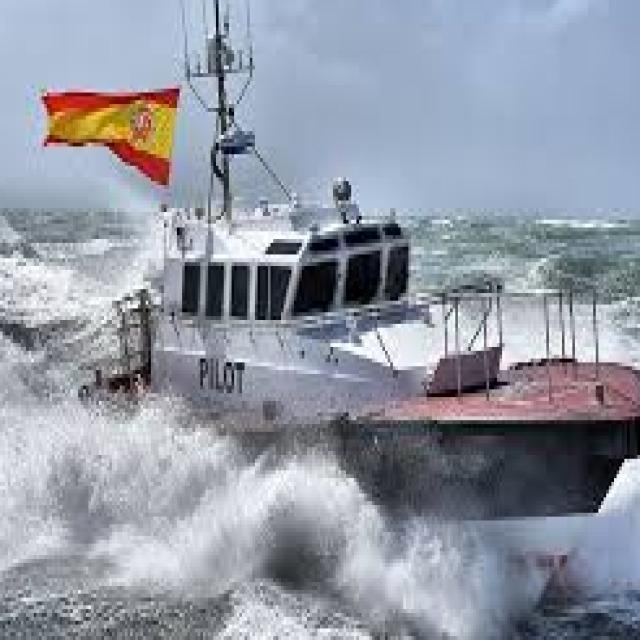houseboat: (80, 0, 640, 609)
